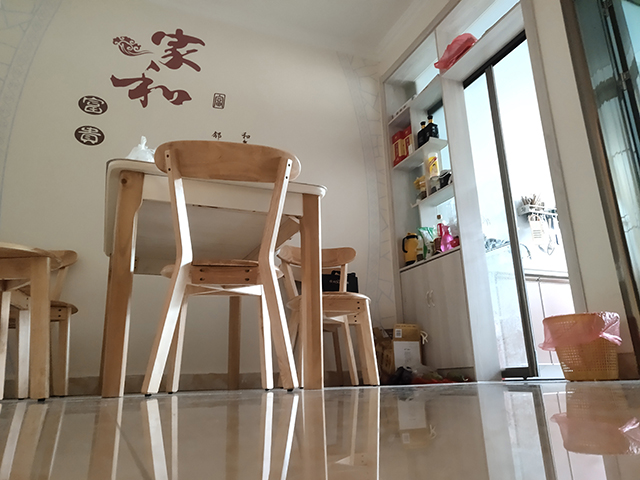cabinet: (400, 244, 504, 384), (523, 271, 575, 383)
stool: (139, 137, 303, 399), (281, 244, 383, 388), (1, 240, 80, 406)
table: (96, 157, 329, 400)
trashcan: (540, 311, 624, 383)
